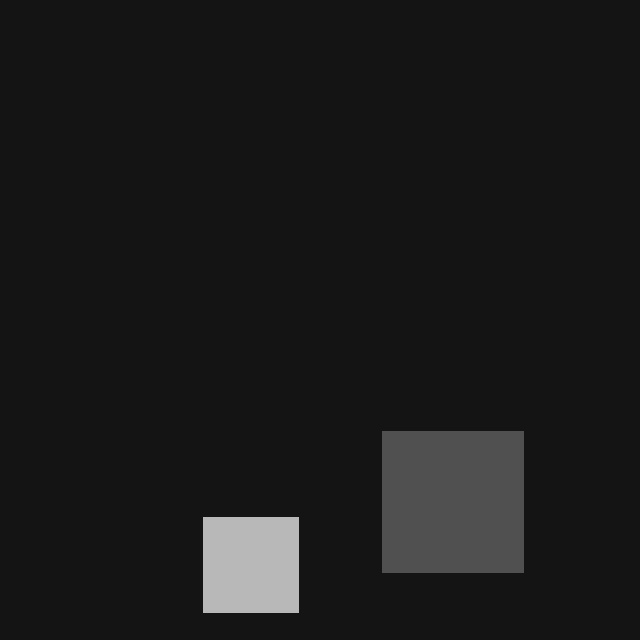square: (382, 431, 523, 572), (203, 517, 298, 612)
